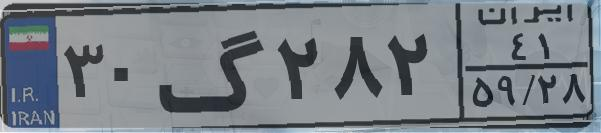0: (110, 28, 156, 98)
1: (537, 27, 568, 80)
2: (270, 28, 330, 110), (385, 28, 445, 110), (535, 70, 560, 125)
3: (57, 26, 110, 100)
4: (508, 27, 537, 80)
5: (470, 70, 495, 125)
8: (330, 28, 385, 110), (560, 70, 590, 125)
9: (495, 70, 520, 125)
گ: (156, 12, 270, 120)
